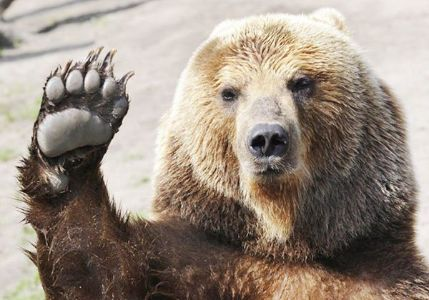bear: (31, 9, 427, 296)
